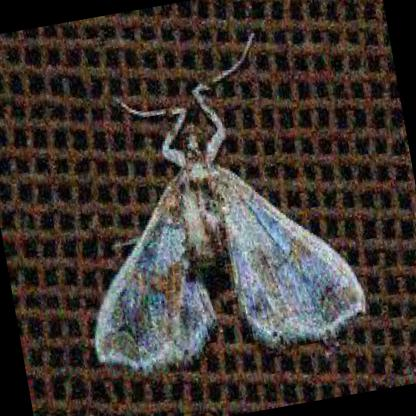leucinodes: (92, 128, 367, 370)
